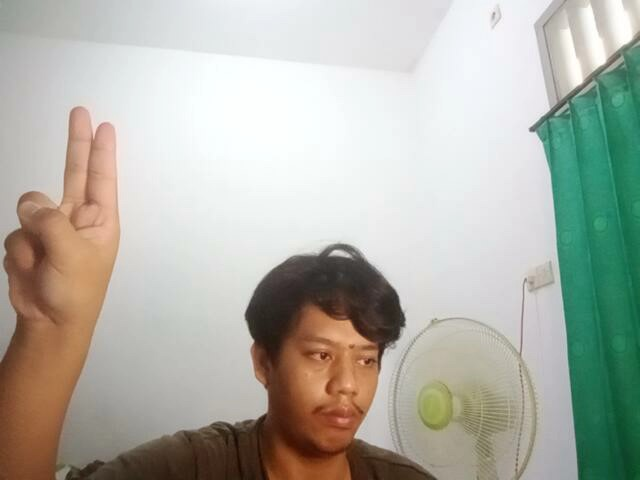U: (3, 102, 136, 336)
